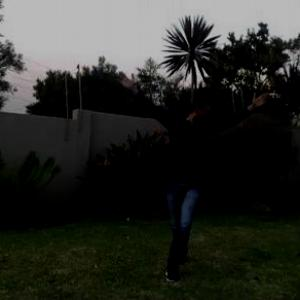takeoff: (66, 47, 299, 284)
